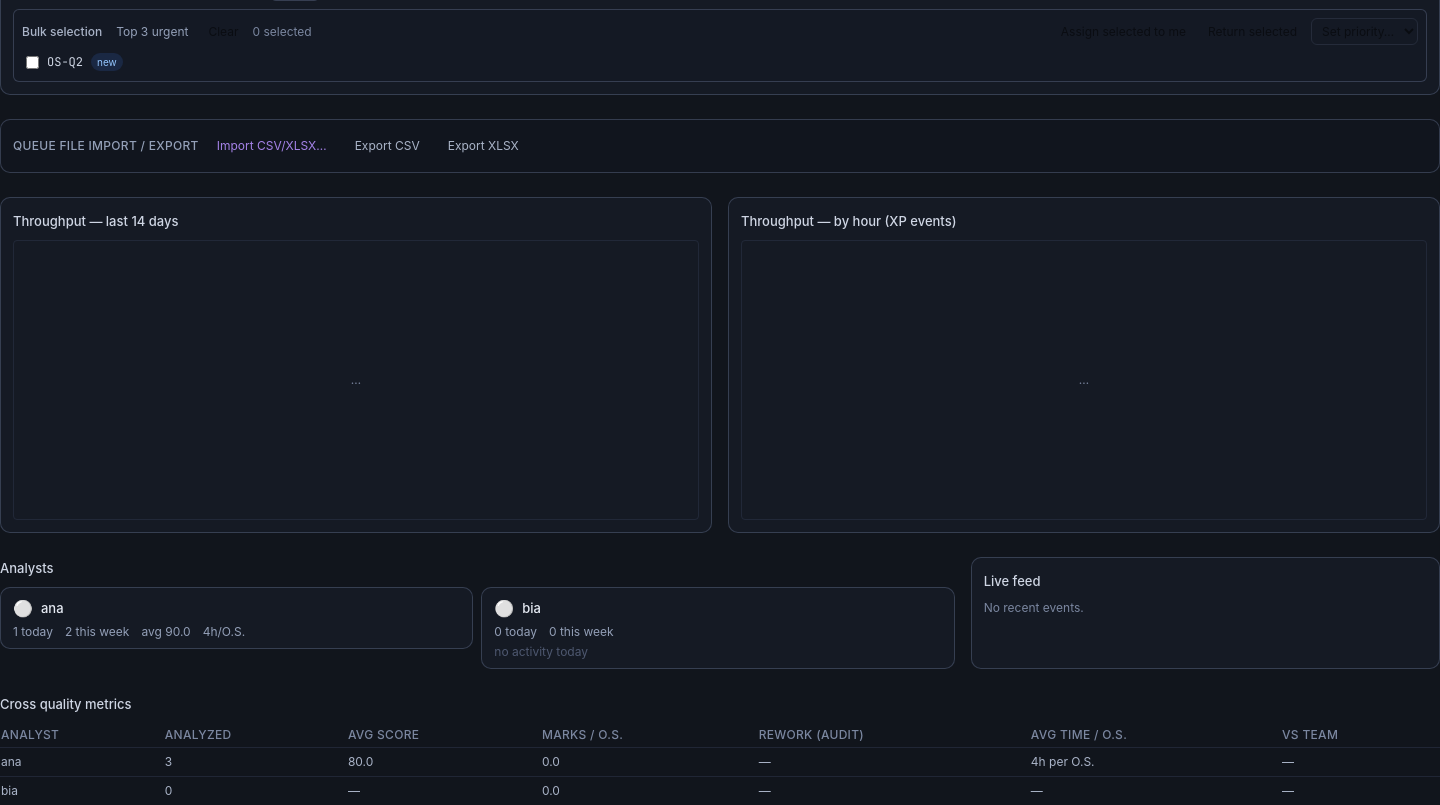
it: drill-down do analista (UI) › clique no card abre o histórico completo com meses e O.S. recentes
(page scrolled)
Expected: the list item with test id "live-analyst-card" that starts with "ana" is shown, [0,587,473,669]
Click the button with aria-label "Open ana's full history": (33, 632) [0,587,473,649]
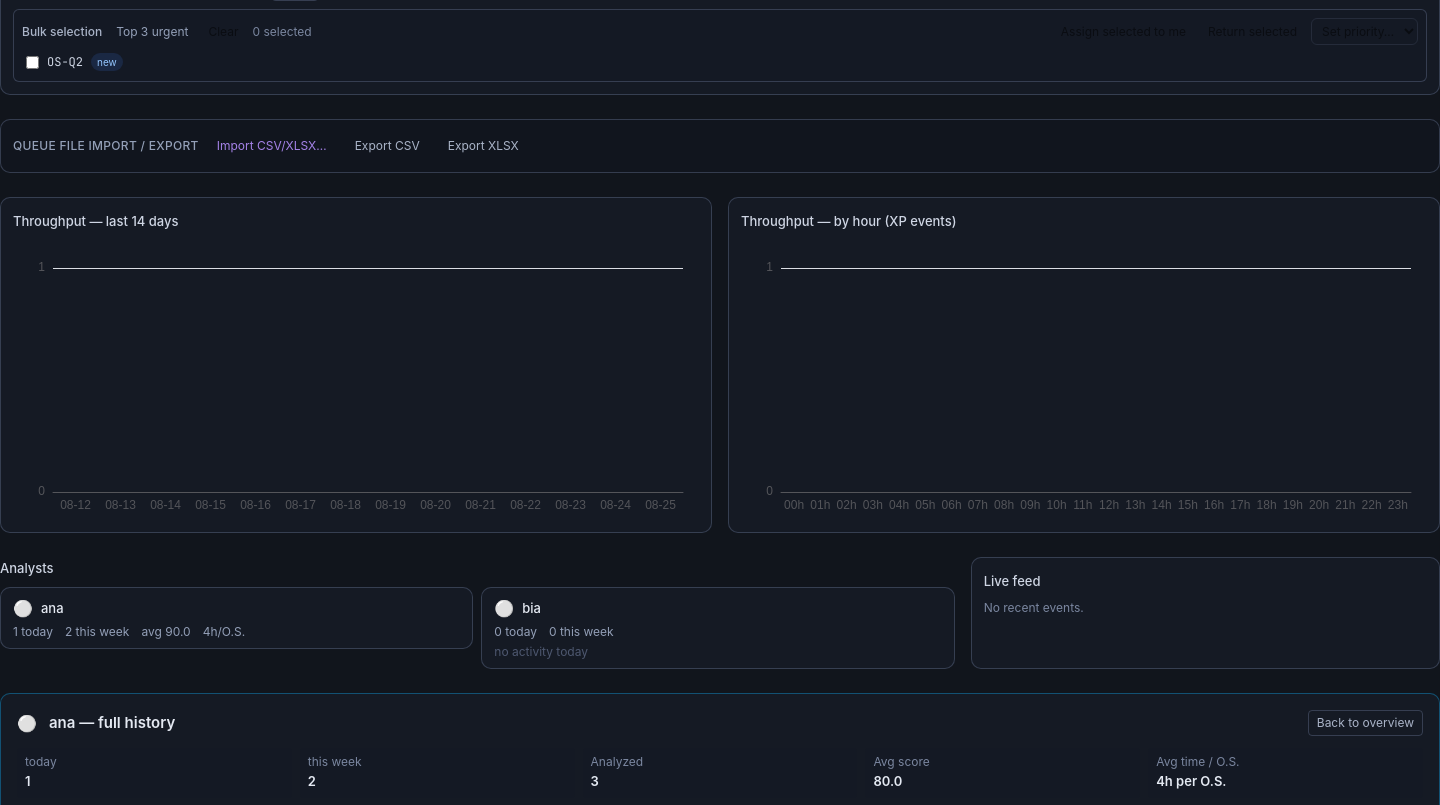
Expected: the element with test id "analyst-drilldown" shows "ana — full history", [49,713,175,732]
Expected: the element with test id "analyst-drilldown" shows "Analyzed", [591,754,643,769]
Expected: the text with test id "drill-avg-time" reads "4h per O.S.", [1156,773,1226,789]
